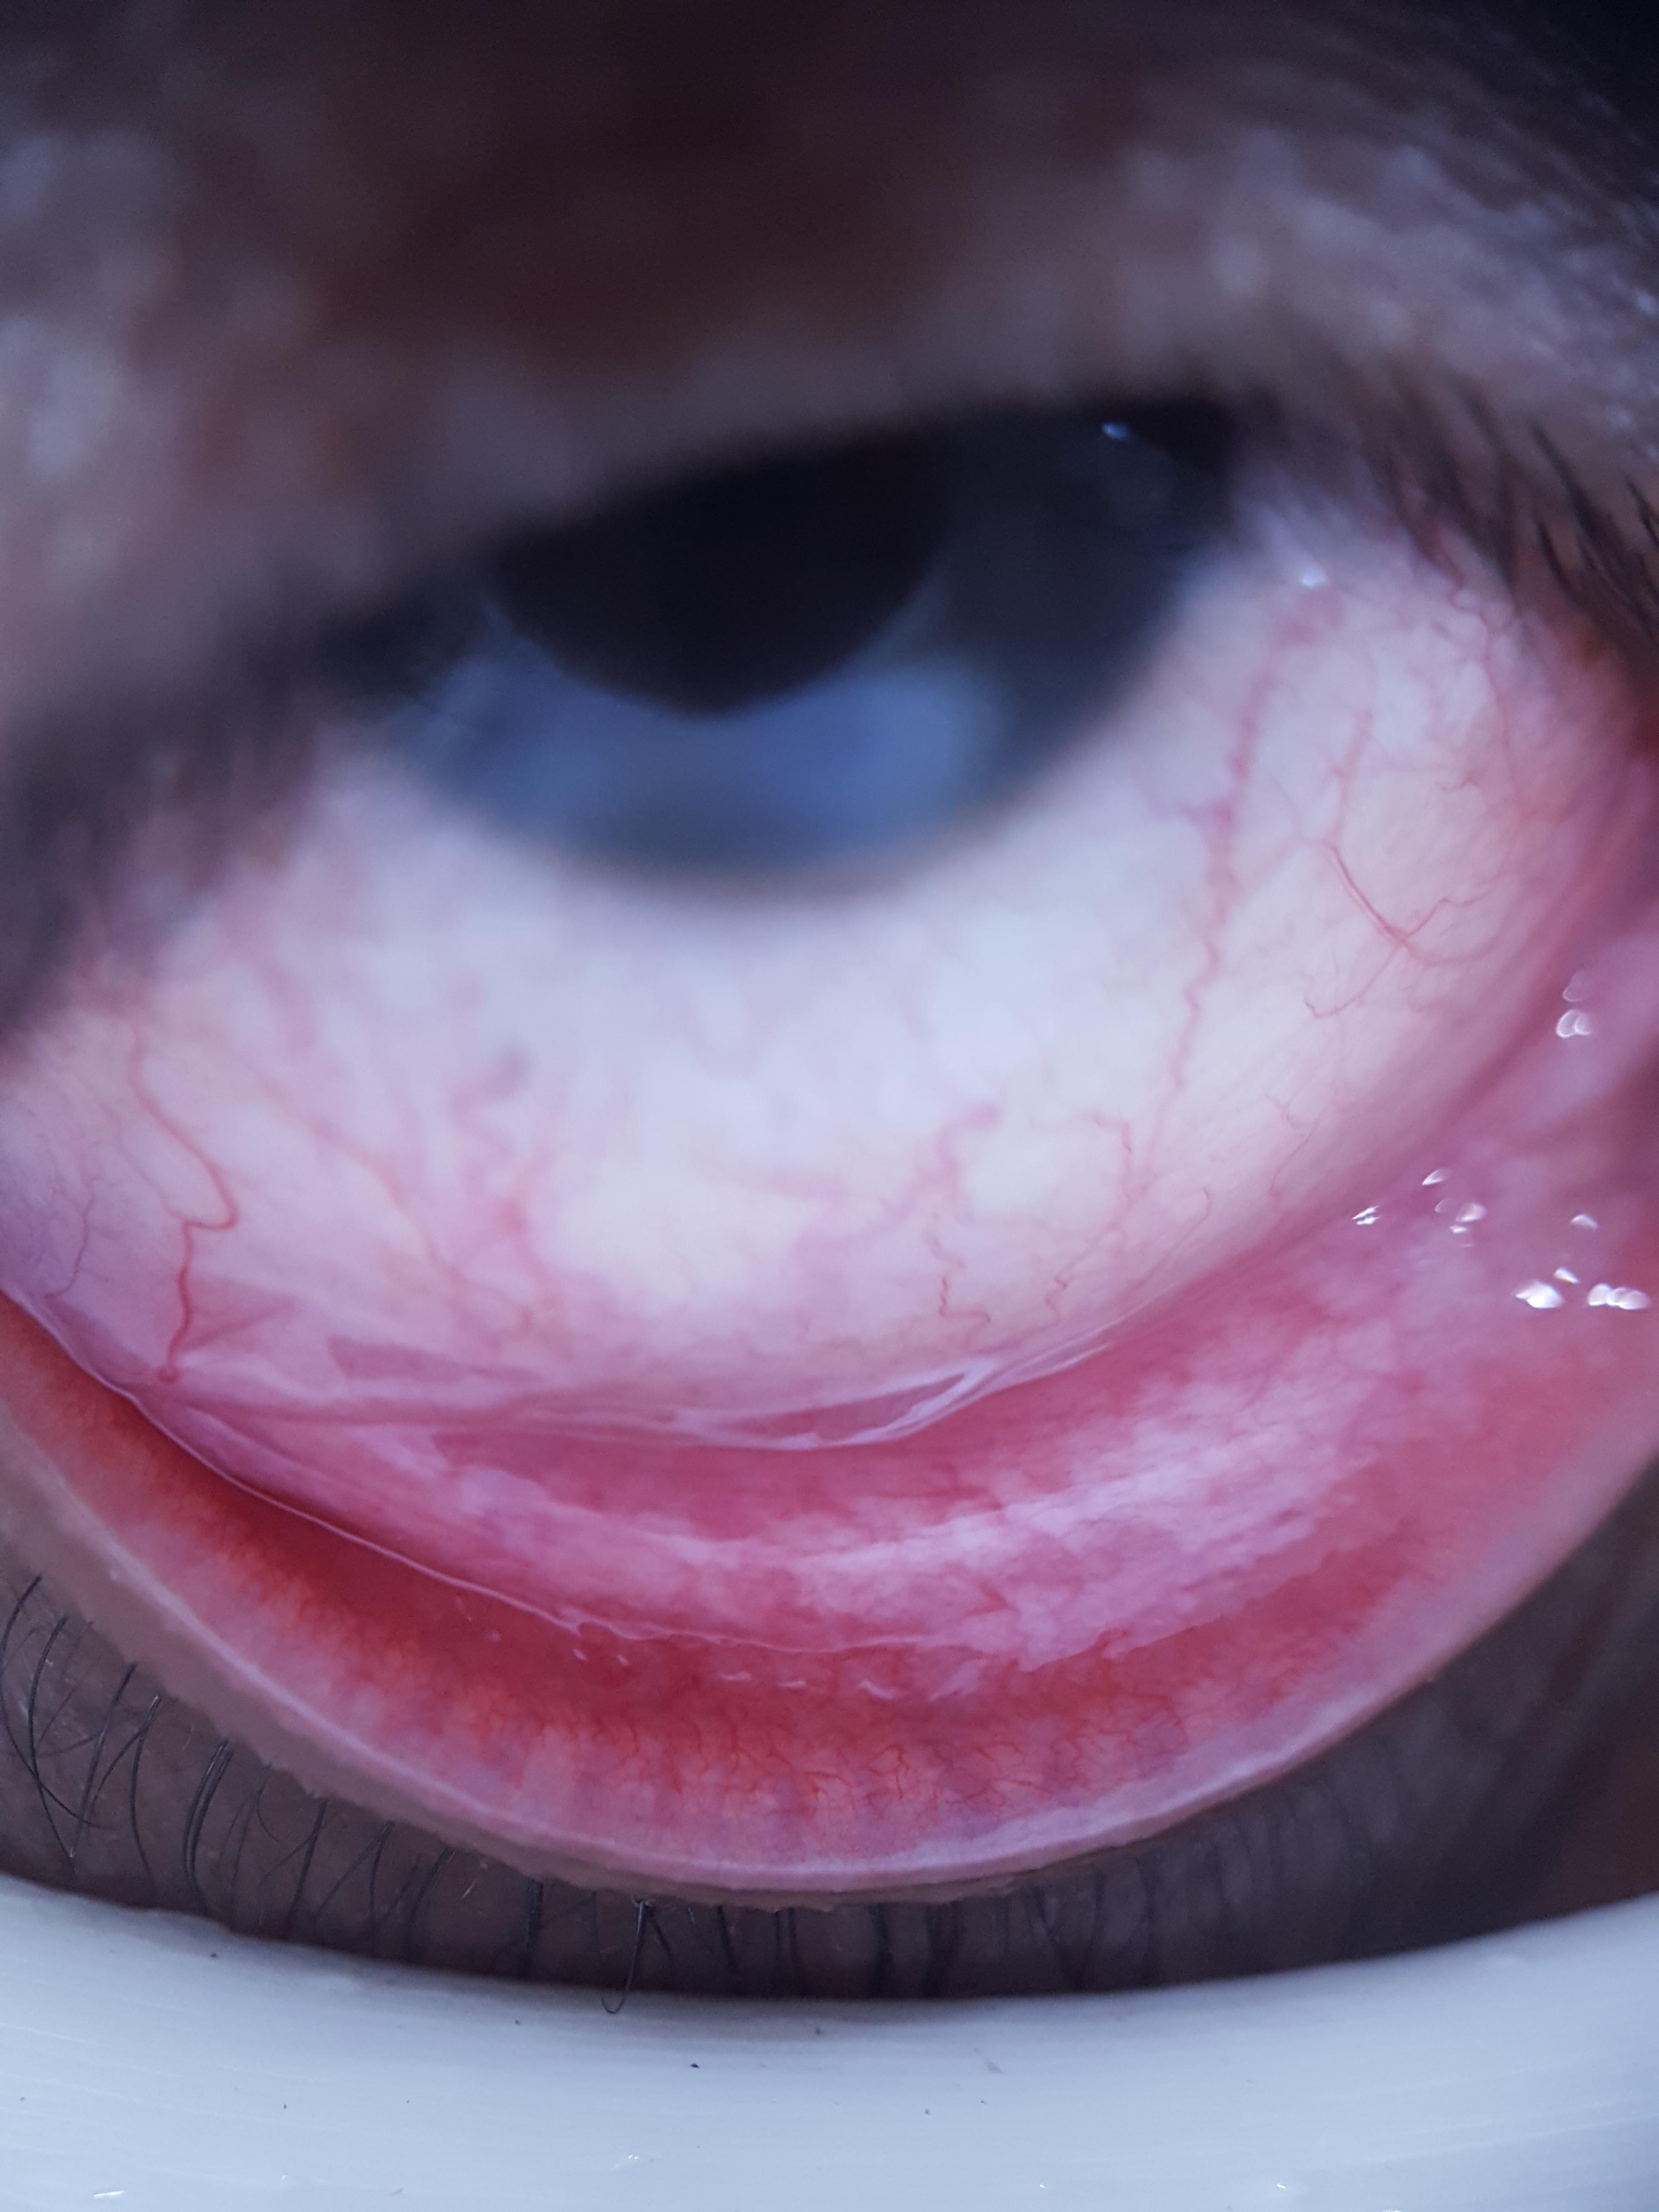forniceal: (52, 899, 1659, 1688)
forniceal_palpebral: (0, 878, 1659, 1838)
palpebral: (3, 1294, 1647, 1815)
